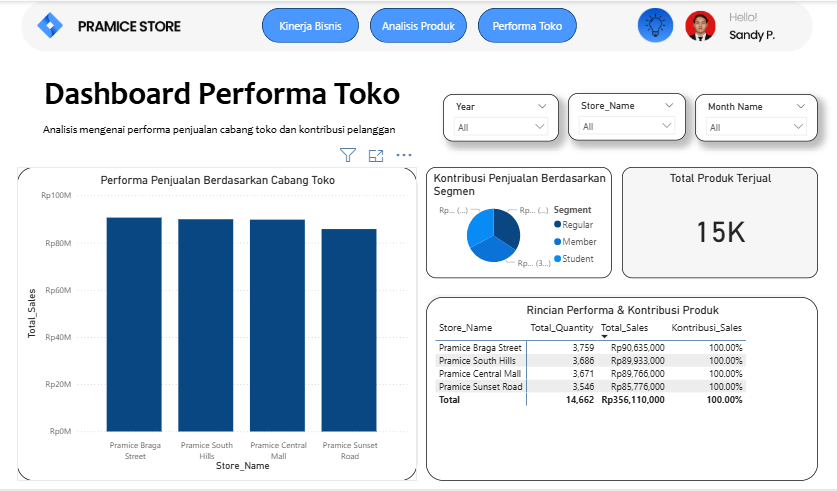

This screenshot's page, from the dashboard's own definition file:
{"tool":"powerbi","page":{"name":"(B) Customer & Store Performance","canvas":[1280,720],"ordinal":5},"visuals":[{"type":"slicer","fields":{"Values":["Dim_Date.Month Name"]},"box":[1050,137.1,181.4,70],"z":0},{"type":"shape","box":[570.7,10,142.9,51.4],"z":1000},{"type":"shape","box":[730,10,145.7,51.4],"z":2000},{"type":"card","title":"Total Produk Terjual","fields":{"Values":["All Measure.Total_Quantity"]},"box":[942.9,244.3,288.6,164.3],"z":3000},{"type":"clusteredColumnChart","title":"Performa Penjualan Berdasarkan Cabang Toko","fields":{"Y":["All Measure.Total_Sales"],"Category":["Fact_Sales.Store_Name"]},"box":[50.1,244.8,589.9,463],"z":4000},{"type":"slicer","fields":{"Values":["Dim_Store.Store_Name"]},"box":[862.9,135.7,174.3,70],"z":5000},{"type":"slicer","fields":{"Values":["Dim_Date.Year"]},"box":[678.6,137.1,171.4,70],"z":6000},{"type":"shape","box":[90,105.7,564.3,58.6],"z":7000},{"type":"shape","box":[88.6,171.4,564.3,35.7],"z":8000},{"type":"shape","box":[411.4,10,142.9,51.4],"z":9000},{"type":"image","box":[950,10,84.3,51.4],"z":10000},{"type":"pivotTable","title":"Rincian Performa & Kontribusi Produk","fields":{"Values":["All Measure.Total_Quantity","All Measure.Total_Sales","All Measure.Kontribusi_Bulan_%"],"Rows":["Fact_Sales.Store_Name"]},"box":[653.3,421.8,578.1,286.1],"z":11000},{"type":"pieChart","title":"Kontribusi Penjualan Berdasarkan Segmen","fields":{"Category":["Fact_Sales.Segment"],"Y":["All Measure.Total_Sales"]},"box":[653.3,244.8,274.3,163.7],"z":12000}]}

Visuals, with their boxes on the page's 1280x720 design canvas (x1, y1, x2, y2). These are canvas units, not pixel positions in the 837x491 screenshot, which may show the page scaled, cropped or inside an application window:
slicer - Dim_Date.Month Name: {"left": 1050, "top": 137, "right": 1231, "bottom": 207}
shape: {"left": 571, "top": 10, "right": 714, "bottom": 61}
shape: {"left": 730, "top": 10, "right": 876, "bottom": 61}
"Total Produk Terjual" card: {"left": 943, "top": 244, "right": 1232, "bottom": 409}
"Performa Penjualan Berdasarkan Cabang Toko" clusteredColumnChart: {"left": 50, "top": 245, "right": 640, "bottom": 708}
slicer - Dim_Store.Store_Name: {"left": 863, "top": 136, "right": 1037, "bottom": 206}
slicer - Dim_Date.Year: {"left": 679, "top": 137, "right": 850, "bottom": 207}
shape: {"left": 90, "top": 106, "right": 654, "bottom": 164}
shape: {"left": 89, "top": 171, "right": 653, "bottom": 207}
shape: {"left": 411, "top": 10, "right": 554, "bottom": 61}
image: {"left": 950, "top": 10, "right": 1034, "bottom": 61}
"Rincian Performa & Kontribusi Produk" pivotTable: {"left": 653, "top": 422, "right": 1231, "bottom": 708}
"Kontribusi Penjualan Berdasarkan Segmen" pieChart: {"left": 653, "top": 245, "right": 928, "bottom": 408}
